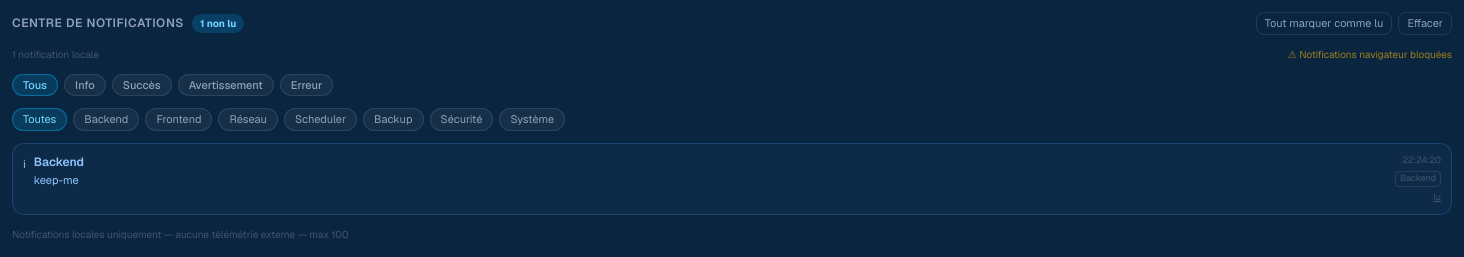
NotificationsCenterPanel — effacement avec confirmation › peut annuler l'effacement
This screenshot has width=1464, height=257.
Click the button "Effacer": (1425, 23) [1398,12,1452,34]
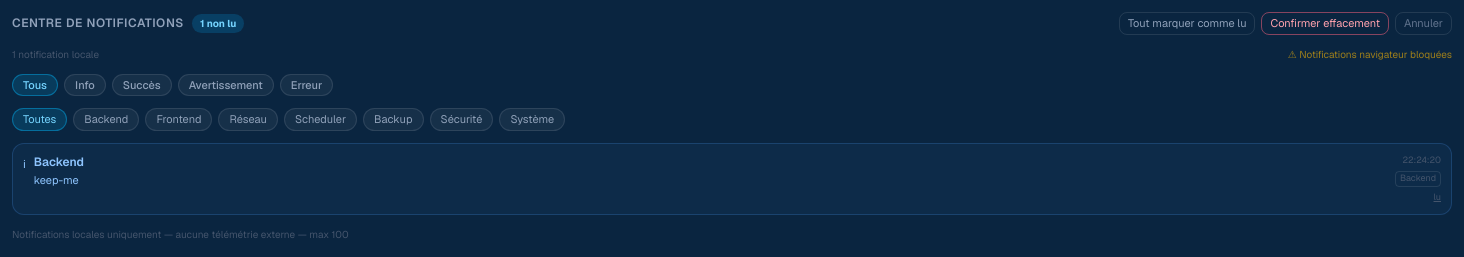
Click the button "Annuler": (1424, 23) [1395,12,1452,34]
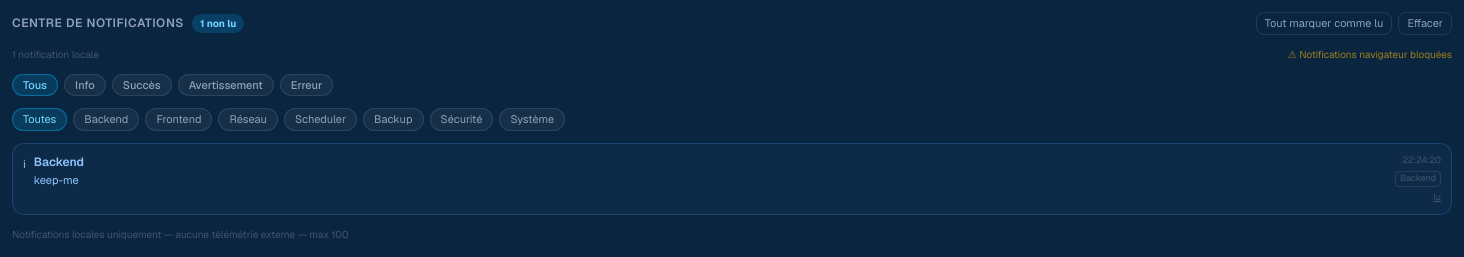
Expected: the text "keep-me" is shown, [34,172,84,188]
Expected: the button "Confirmer effacement" is gone
